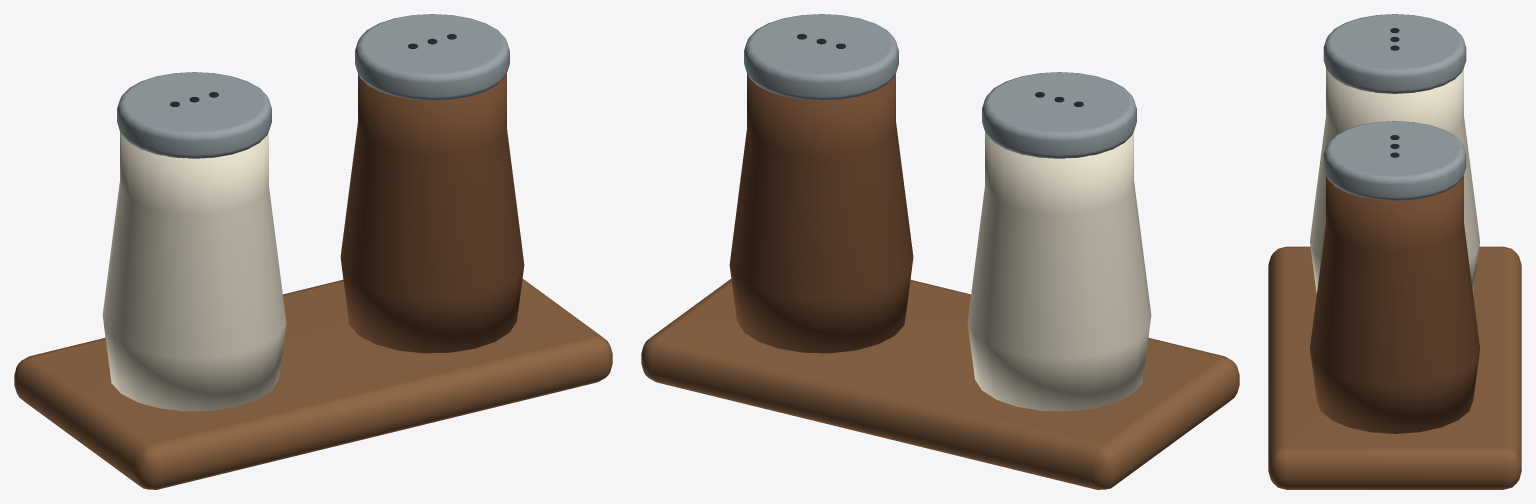
The model's file is HotelTogether-SeasoningSet.glb.
The picture shows the model from 3 angles, left to right: view 1: azimuth 30°, elevation 25°; view 2: azimuth 150°, elevation 25°; view 3: azimuth 270°, elevation 25°; orthographic projection. The views are drawn at different scales.
Visible parts, largest first — view 1: Seasoning_Tray, Seasoning_Shaker, Seasoning_Shaker.001, Seasoning_Cap, Seasoning_Cap.001; view 2: Seasoning_Tray, Seasoning_Shaker, Seasoning_Shaker.001, Seasoning_Cap, Seasoning_Cap.001; view 3: Seasoning_Shaker.001, Seasoning_Tray, Seasoning_Cap.001, Seasoning_Cap, Seasoning_Shaker.
Part boxes in pixels (<box>): Seasoning_Tray: <box>14,279,612,489</box>; Seasoning_Shaker: <box>102,132,286,411</box>; Seasoning_Shaker.001: <box>340,74,524,353</box>; Seasoning_Cap: <box>117,72,271,158</box>; Seasoning_Cap.001: <box>355,14,509,100</box>; Seasoning_Tray: <box>641,279,1239,489</box>; Seasoning_Shaker: <box>967,132,1151,411</box>; Seasoning_Shaker.001: <box>729,74,913,353</box>; Seasoning_Cap: <box>982,72,1136,158</box>; Seasoning_Cap.001: <box>744,14,898,100</box>; Seasoning_Shaker.001: <box>1310,175,1479,433</box>; Seasoning_Tray: <box>1268,246,1521,489</box>; Seasoning_Cap.001: <box>1323,121,1466,200</box>; Seasoning_Cap: <box>1323,14,1466,93</box>; Seasoning_Shaker: <box>1310,68,1479,293</box>.
Size of the model in its own units: 0.22 by 0.1425 by 0.11.
